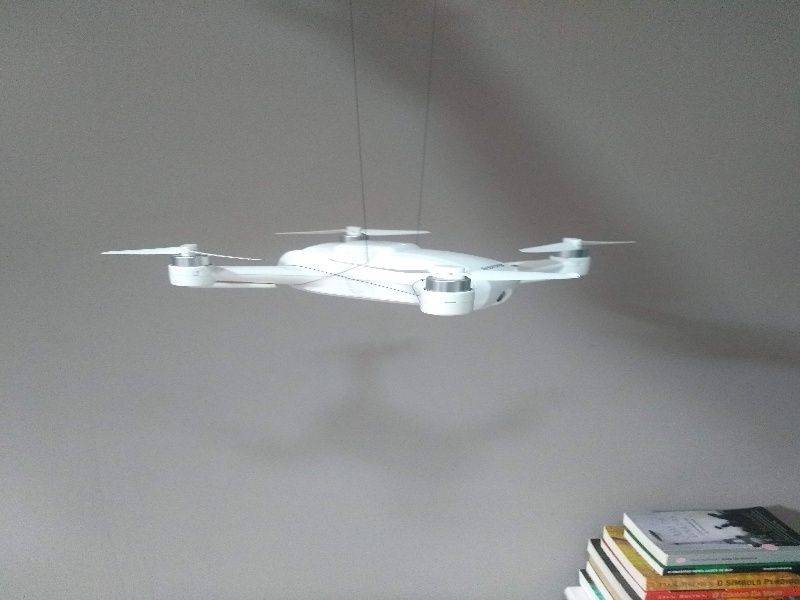drone: (115, 208, 626, 331)
